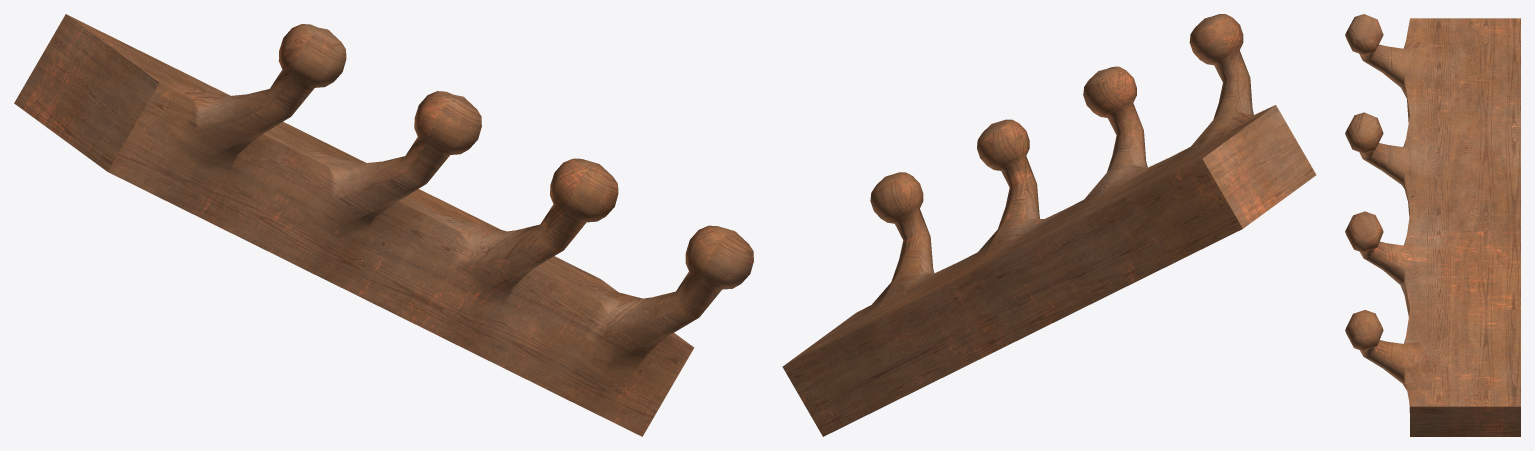
The model's file is Cleat de laddo.fbx.
3 views of the same model, side by side, from view 1: azimuth 30°, elevation 25°; view 2: azimuth 150°, elevation 25°; view 3: azimuth 270°, elevation 25° (orthographic). The views are drawn at different scales.
Visible parts, largest first — view 1: Cleats.002; view 2: Cleats.002; view 3: Cleats.002.
Part boxes in pixels (x1,y1,x2,y2): Cleats.002: (14, 14, 753, 436); Cleats.002: (782, 14, 1316, 436); Cleats.002: (1345, 14, 1520, 436).
Size of the model in its own units: 592 by 497 by 253.
Materials: 1 (1 with a texture image).
